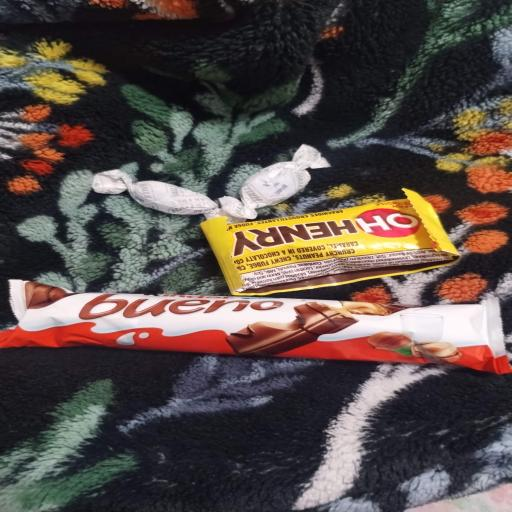chocolate: (0, 280, 511, 373), (202, 189, 458, 295), (223, 145, 330, 219), (92, 170, 218, 216)
